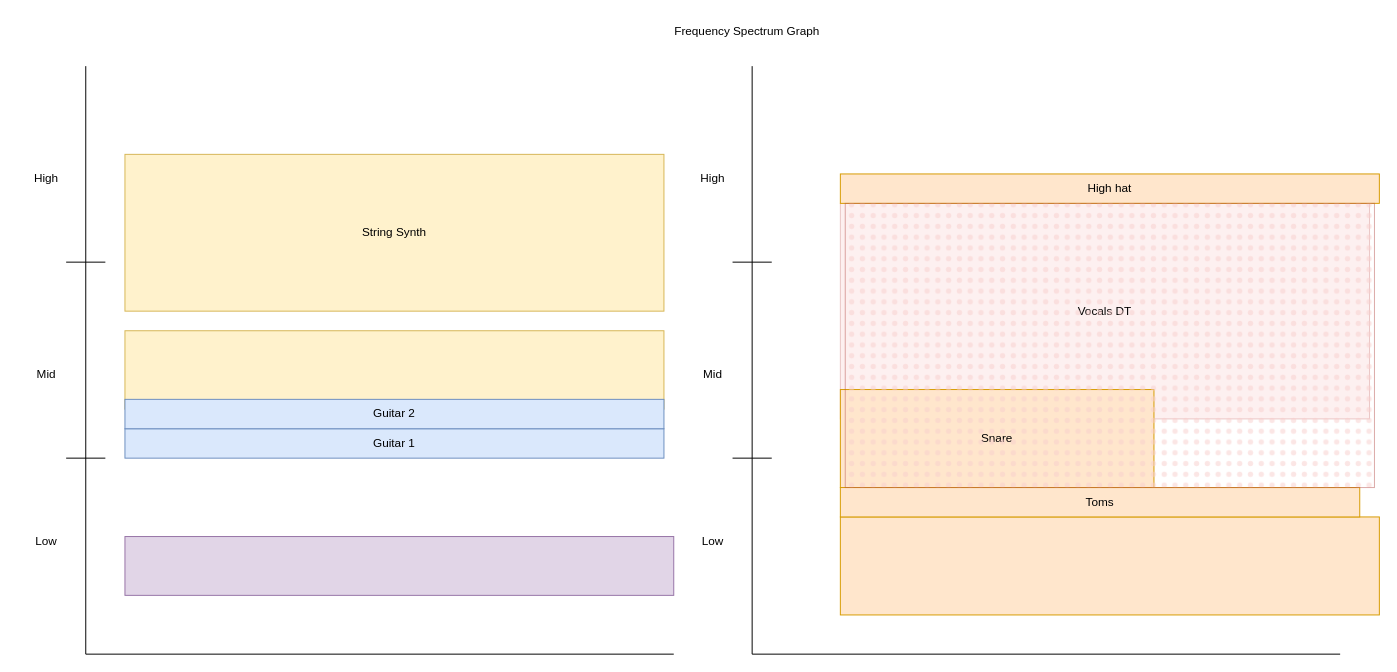
This 1397x672 diagram has some shape labels left out. Here are the shapes that lost their labels. From the top down, the centre of each, then its label:
At (1109,345): "Vocals".
At (394,369): "Keys".
At (399,565): "Bass".
At (1109,565): "Kick".
